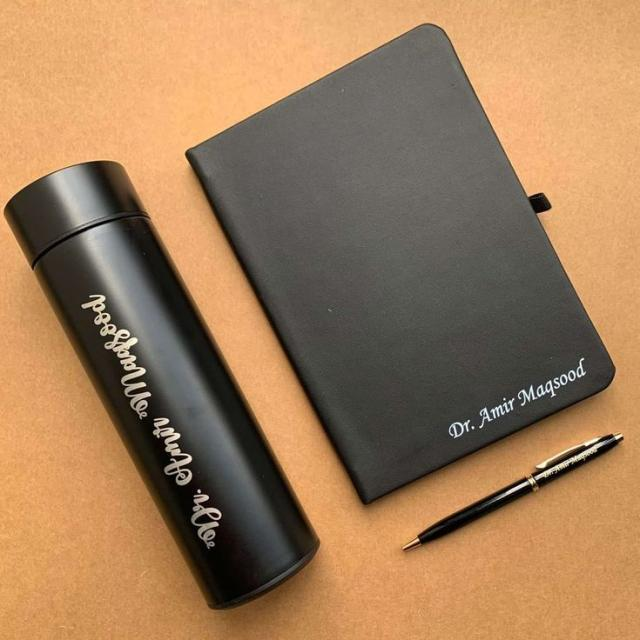book: (158, 0, 638, 537)
bottle: (0, 127, 341, 640)
pen: (384, 413, 639, 553)
